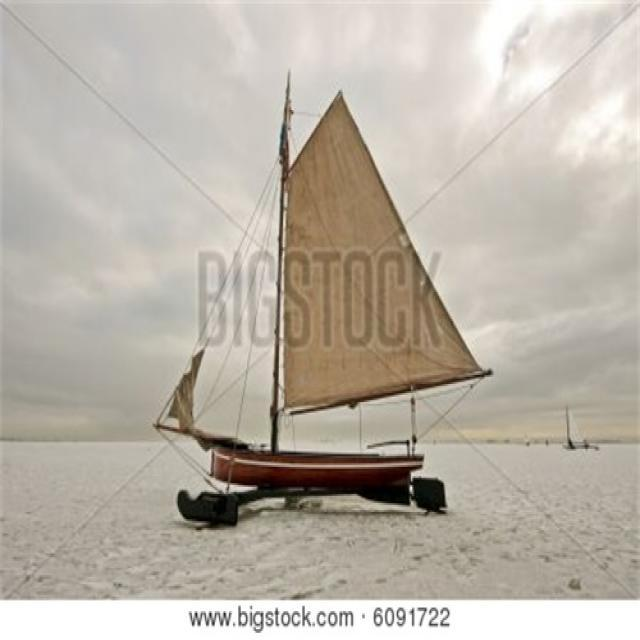Ship: (170, 65, 478, 537)
